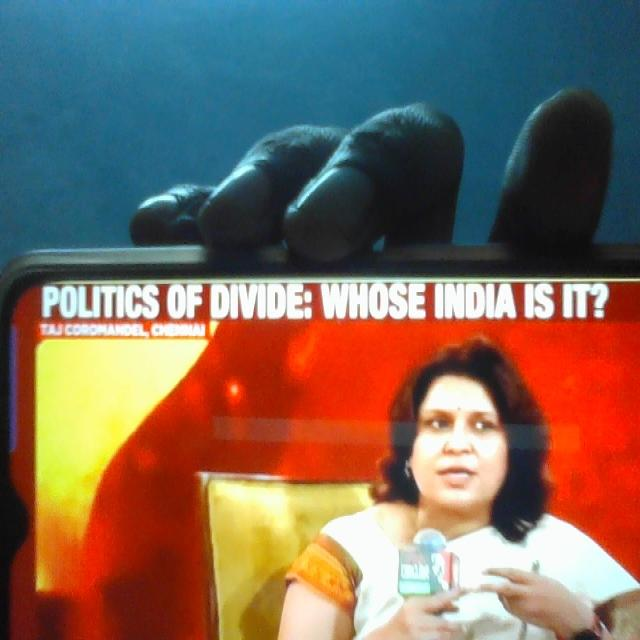fake: (410, 328, 516, 529)
